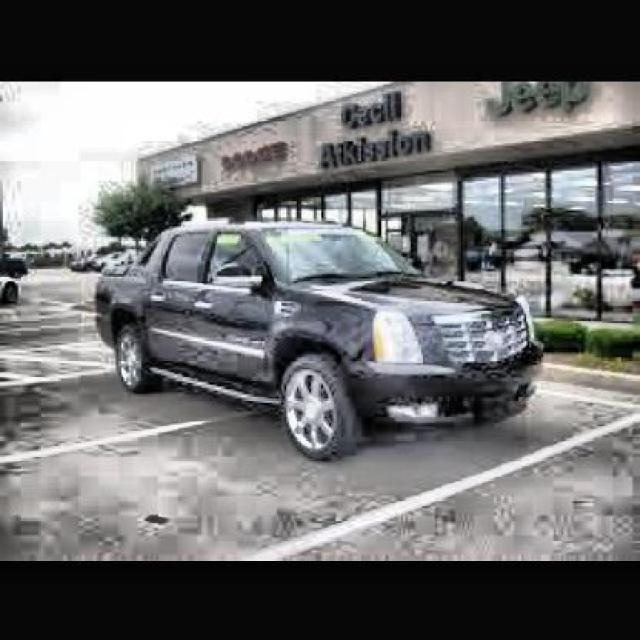black: (93, 230, 513, 439)
